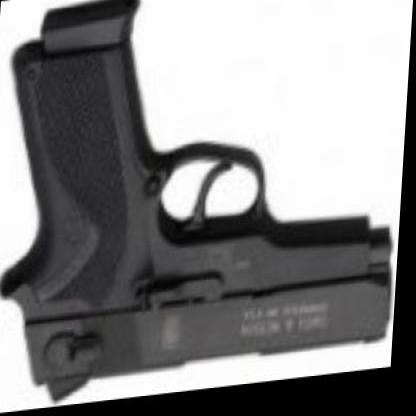pistol: (4, 0, 414, 412)
